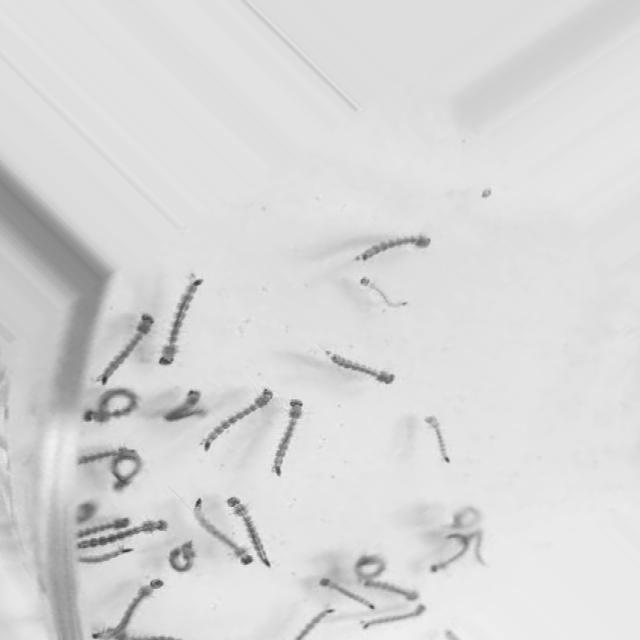larvas: (191, 497, 254, 571), (102, 573, 164, 640), (100, 313, 156, 384), (74, 514, 166, 557), (205, 392, 275, 448), (225, 491, 272, 571), (162, 274, 204, 360), (327, 344, 397, 384), (275, 399, 302, 471), (363, 230, 434, 257), (322, 572, 367, 607), (366, 605, 428, 630), (88, 389, 141, 418), (73, 515, 128, 542), (363, 276, 408, 307), (297, 602, 335, 638), (74, 546, 131, 568), (372, 576, 419, 600), (110, 452, 142, 487), (436, 531, 466, 568), (429, 415, 452, 462), (171, 388, 201, 421), (84, 442, 130, 462), (93, 631, 174, 640), (169, 542, 194, 571), (357, 554, 384, 579), (472, 525, 488, 562), (454, 504, 479, 526)
